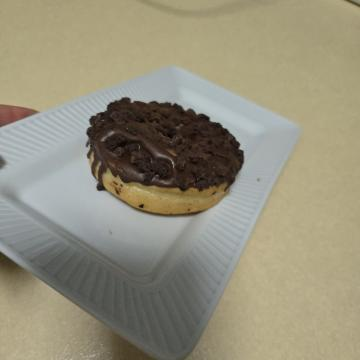doughnut: (87, 107, 235, 288)
